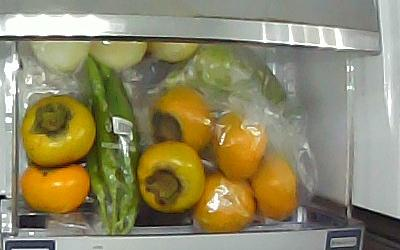persimmon: (22, 94, 95, 167), (137, 141, 206, 212), (20, 165, 89, 213)
persimmon_vinyl: (149, 87, 213, 151), (213, 112, 267, 183), (195, 172, 255, 233), (251, 154, 298, 221)
